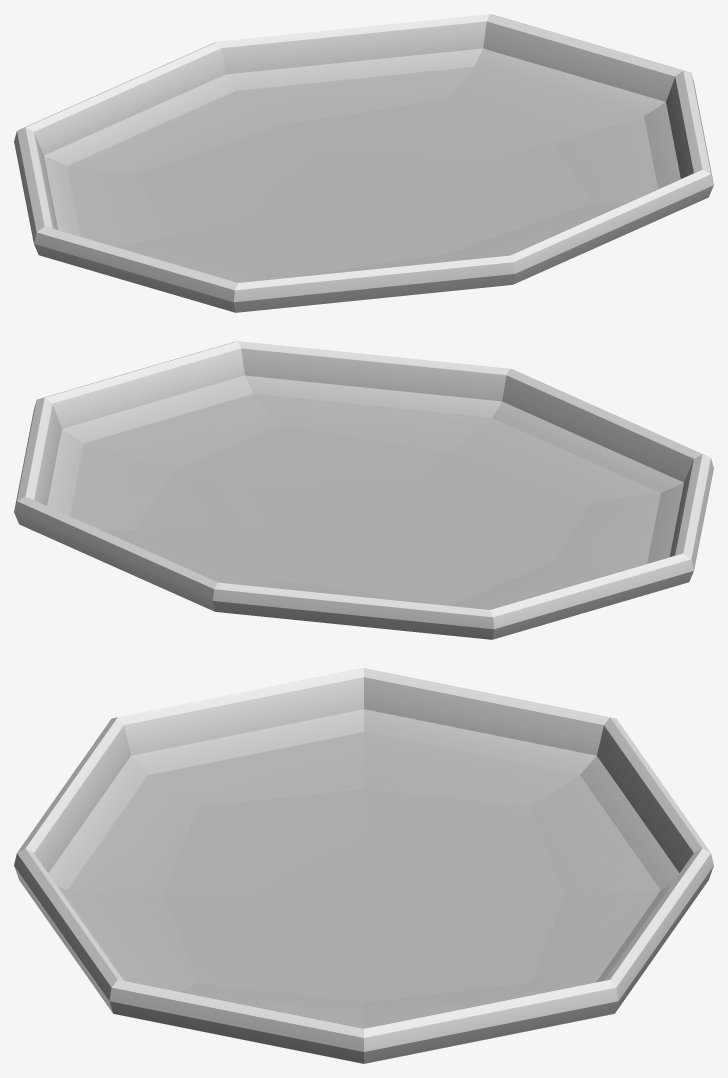
File: tray2.fbx
3 views of the same model, one above another, from view 1: azimuth 30°, elevation 25°; view 2: azimuth 150°, elevation 25°; view 3: azimuth 270°, elevation 25° (orthographic). The views are drawn at different scales.
Parts seen in each view (by area): view 1: tray2; view 2: tray2; view 3: tray2.
Part boxes in pixels (<box>): tray2: <box>14,14,713,312</box>; tray2: <box>14,341,713,639</box>; tray2: <box>14,668,713,1063</box>.
Size of the model in its own units: 137 by 8.8 by 109.
